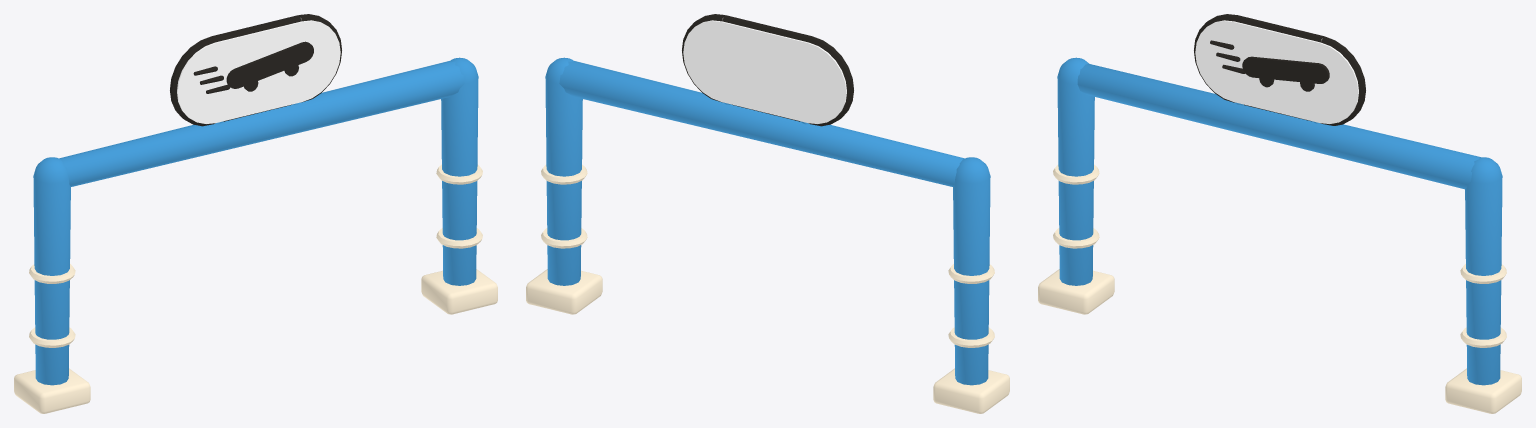
The model's file is swap_gate_board.glb.
3 views of the same model, side by side, from view 1: azimuth 30°, elevation 25°; view 2: azimuth 150°, elevation 25°; view 3: azimuth 330°, elevation 25° (orthographic).
Visible parts, largest first — view 1: swap_gate_board; view 2: swap_gate_board; view 3: swap_gate_board.
Part boxes in pixels (box(x1,y1,x2,y2)): swap_gate_board: box(14, 14, 497, 413); swap_gate_board: box(526, 14, 1009, 413); swap_gate_board: box(1038, 14, 1521, 413).
Size of the model in its own units: 9 by 6.19 by 1.
Materials: 1 (1 with a texture image).
